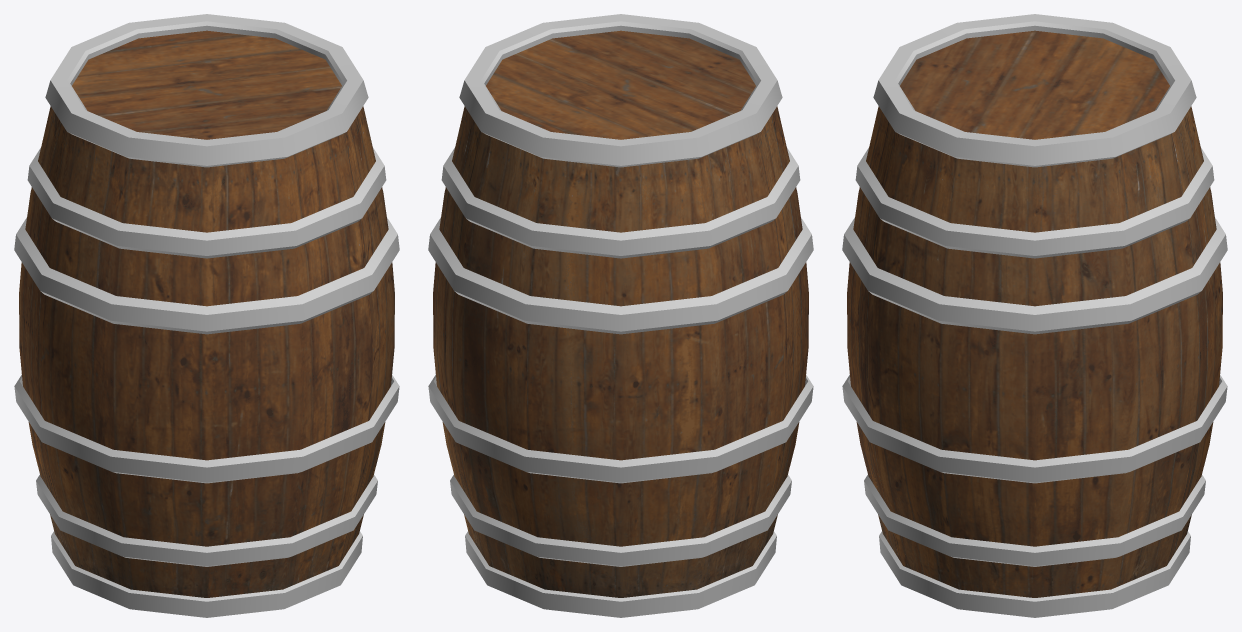
File: Barril.fbx
3 renders of one model, left to right at view 1: azimuth 30°, elevation 25°; view 2: azimuth 150°, elevation 25°; view 3: azimuth 270°, elevation 25°, orthographic.
Parts seen in each view (by area): view 1: Barril; view 2: Barril; view 3: Barril.
Part boxes in pixels (x1=…): Barril: x1=14, y1=14, x2=399, y2=617; Barril: x1=428, y1=14, x2=813, y2=617; Barril: x1=842, y1=14, x2=1227, y2=617.
Bounding box in the file's own units: 130 × 177 × 130.
